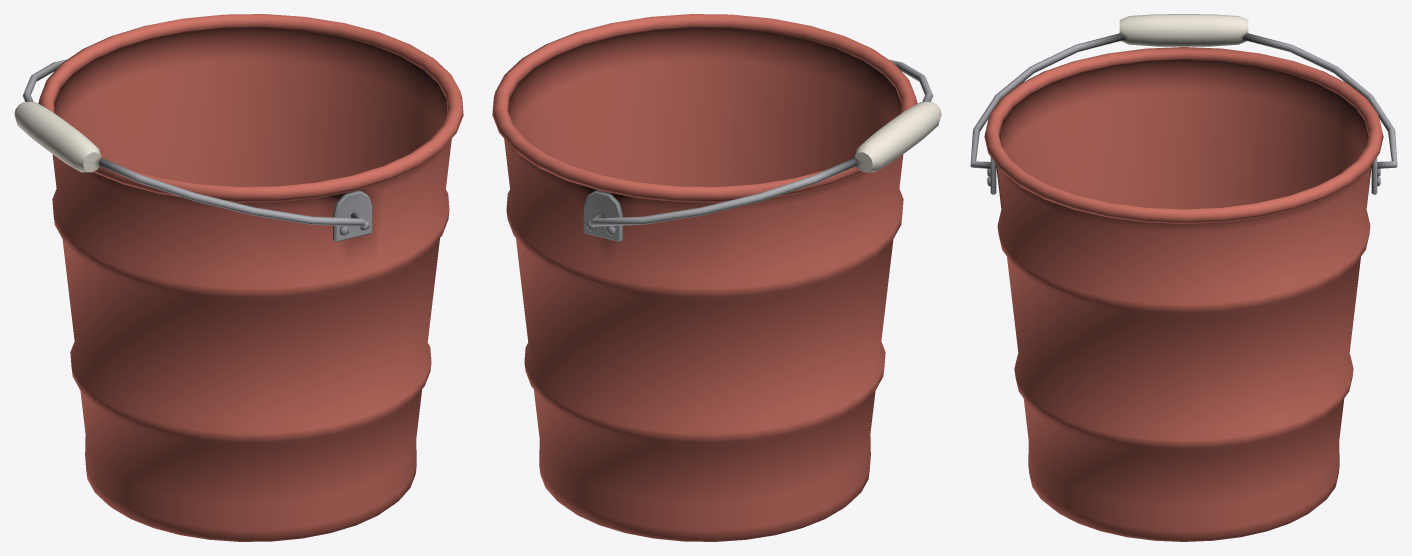
The model's file is junk_bucket.glb.
The picture shows the model from 3 angles, left to right: view 1: azimuth 30°, elevation 25°; view 2: azimuth 150°, elevation 25°; view 3: azimuth 270°, elevation 25°; orthographic projection. The views are drawn at different scales.
Parts seen in each view (by area): view 1: PART; view 2: PART; view 3: PART.
Boxes of the visible parts, x1,y1,x2,y2 form: PART: [14, 14, 463, 541]; PART: [492, 14, 941, 541]; PART: [970, 14, 1397, 541].
Size of the model in its own units: 0.3097 by 0.3019 by 0.3115.
